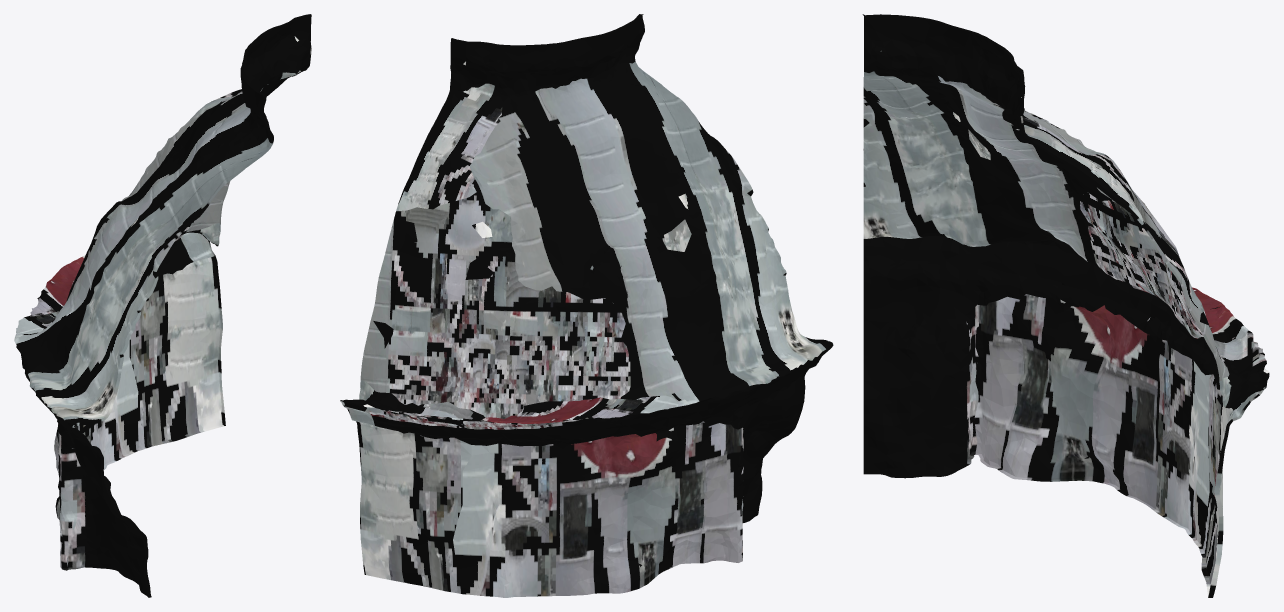
3 views of the same model, side by side, from view 1: azimuth 30°, elevation 25°; view 2: azimuth 150°, elevation 25°; view 3: azimuth 270°, elevation 25° (orthographic). The views are drawn at different scales.
Visible parts, largest first — view 1: node_45; view 2: node_45; view 3: node_45.
Boxes of the visible parts, bbox=[...] form: node_45: bbox=[14, 14, 311, 597]; node_45: bbox=[340, 14, 833, 597]; node_45: bbox=[862, 14, 1269, 597].
Bounding box in the file's own units: 1.28 × 1.87 × 1.33.
Materials: 1 (1 with a texture image).
